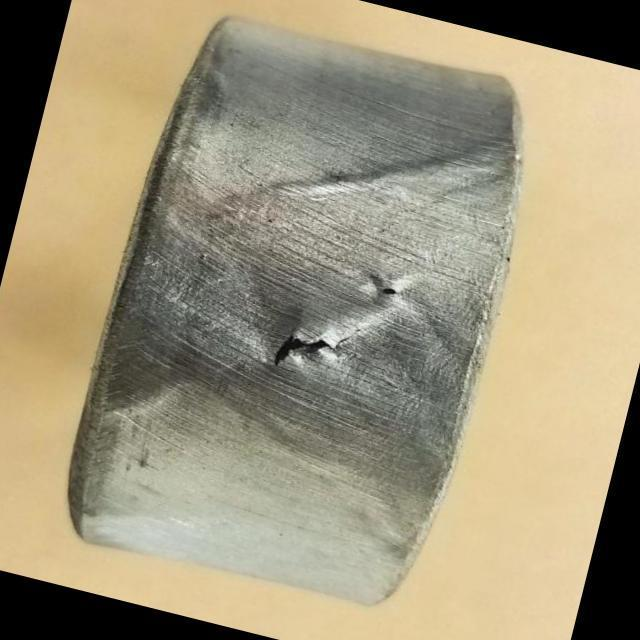defect: (261, 327, 365, 368)
